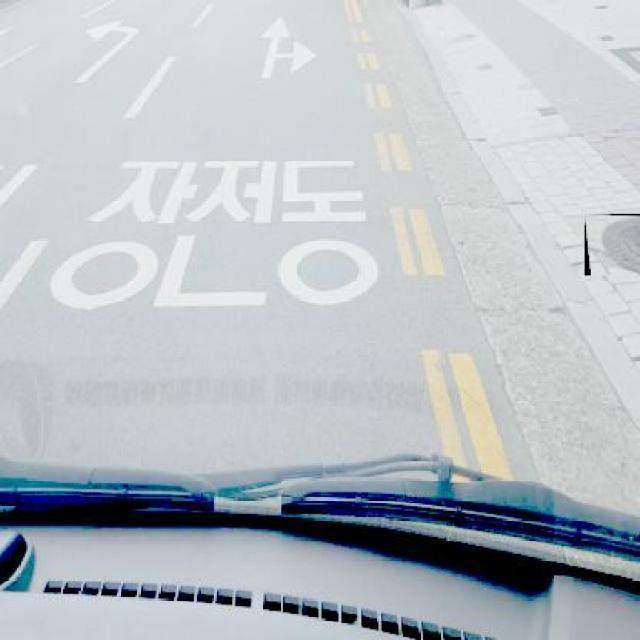Manhole: (584, 213, 640, 274)
